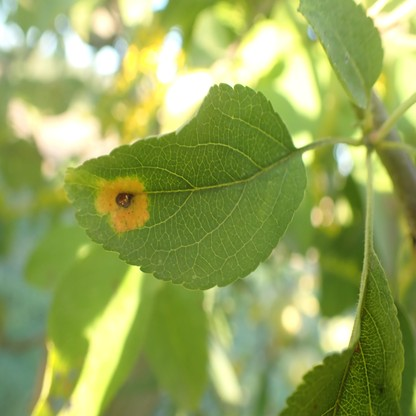rust: (95, 175, 150, 230)
